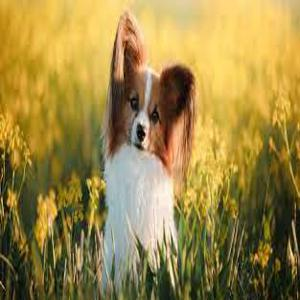yell: (101, 8, 195, 287)
